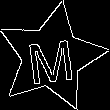M_N: (25, 29, 78, 85)
